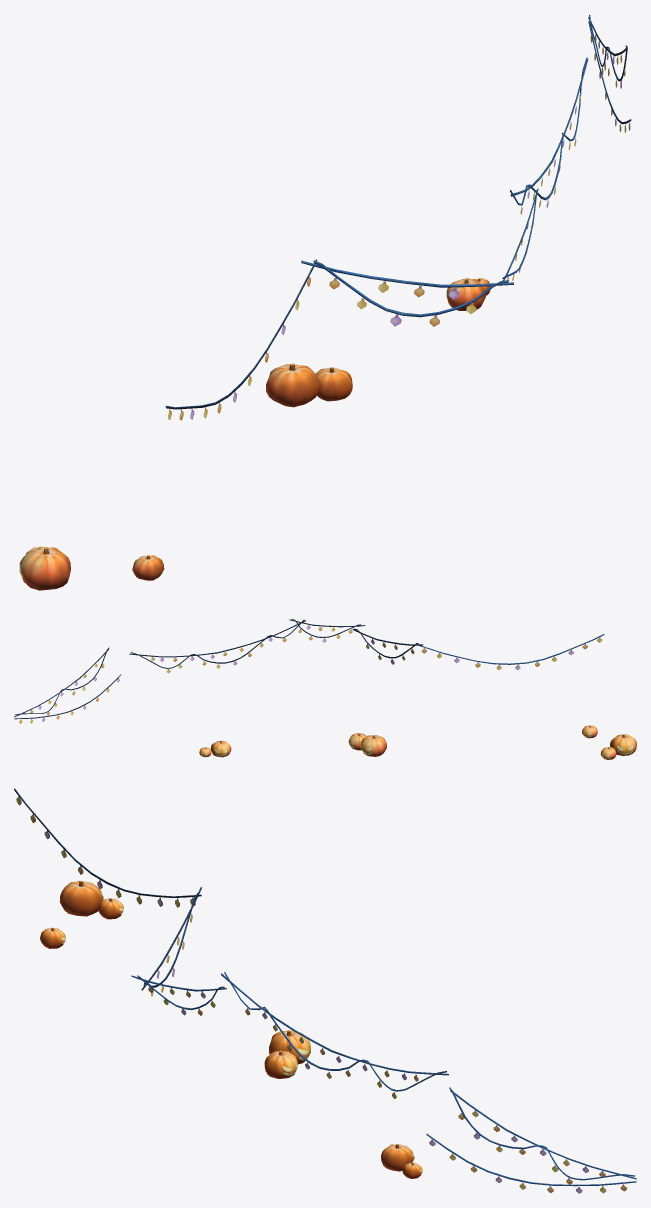
The model's file is pref_sm_4v4beachtech_WSJ_bk_decorate_L01_lv0.fbx.
3 renders of one model, top to bottom at view 1: azimuth 30°, elevation 25°; view 2: azimuth 150°, elevation 25°; view 3: azimuth 270°, elevation 25°, orthographic. The views are drawn at different scales.
Parts seen in each view (by area): view 1: sm_4v4beachtech_WSJ_bk_decorate_L01_b_lv0, sm_4v4beachtech_WSJ_bk_decorate_L01_a_lv0; view 2: sm_4v4beachtech_WSJ_bk_decorate_L01_a_lv0, sm_4v4beachtech_WSJ_bk_decorate_L01_b_lv0; view 3: sm_4v4beachtech_WSJ_bk_decorate_L01_a_lv0, sm_4v4beachtech_WSJ_bk_decorate_L01_b_lv0.
Part boxes in pixels (bbox=[...]): sm_4v4beachtech_WSJ_bk_decorate_L01_b_lv0: bbox=[19, 278, 490, 590]; sm_4v4beachtech_WSJ_bk_decorate_L01_a_lv0: bbox=[165, 14, 631, 420]; sm_4v4beachtech_WSJ_bk_decorate_L01_a_lv0: bbox=[14, 619, 604, 723]; sm_4v4beachtech_WSJ_bk_decorate_L01_b_lv0: bbox=[199, 725, 636, 759]; sm_4v4beachtech_WSJ_bk_decorate_L01_a_lv0: bbox=[14, 788, 636, 1193]; sm_4v4beachtech_WSJ_bk_decorate_L01_b_lv0: bbox=[40, 880, 422, 1178].
Bounding box in the file's own units: 27.05 × 5.98 × 19.65.
